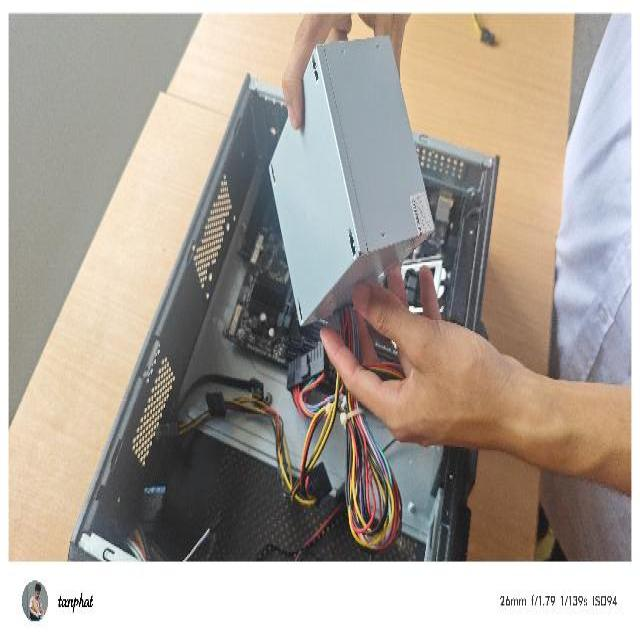PSU: (266, 30, 436, 329)
